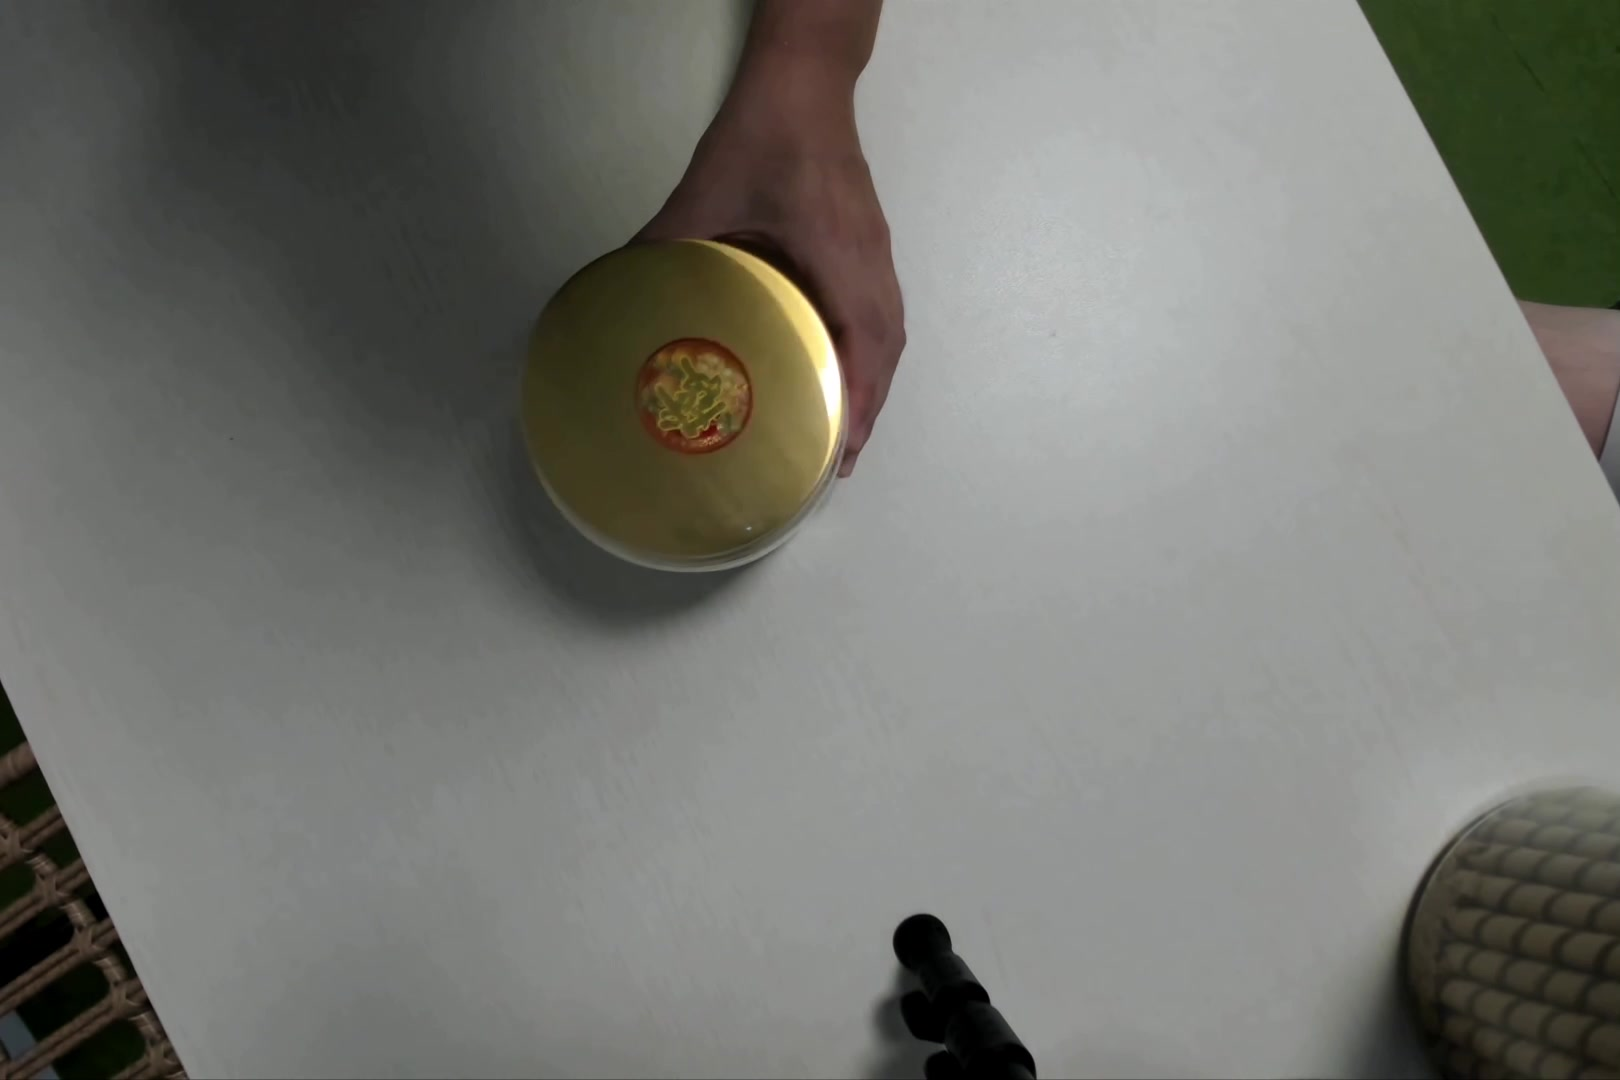BiscuitsCrackersCookies_400-499g_Halal_NonHealthy: (523, 236, 843, 575)
